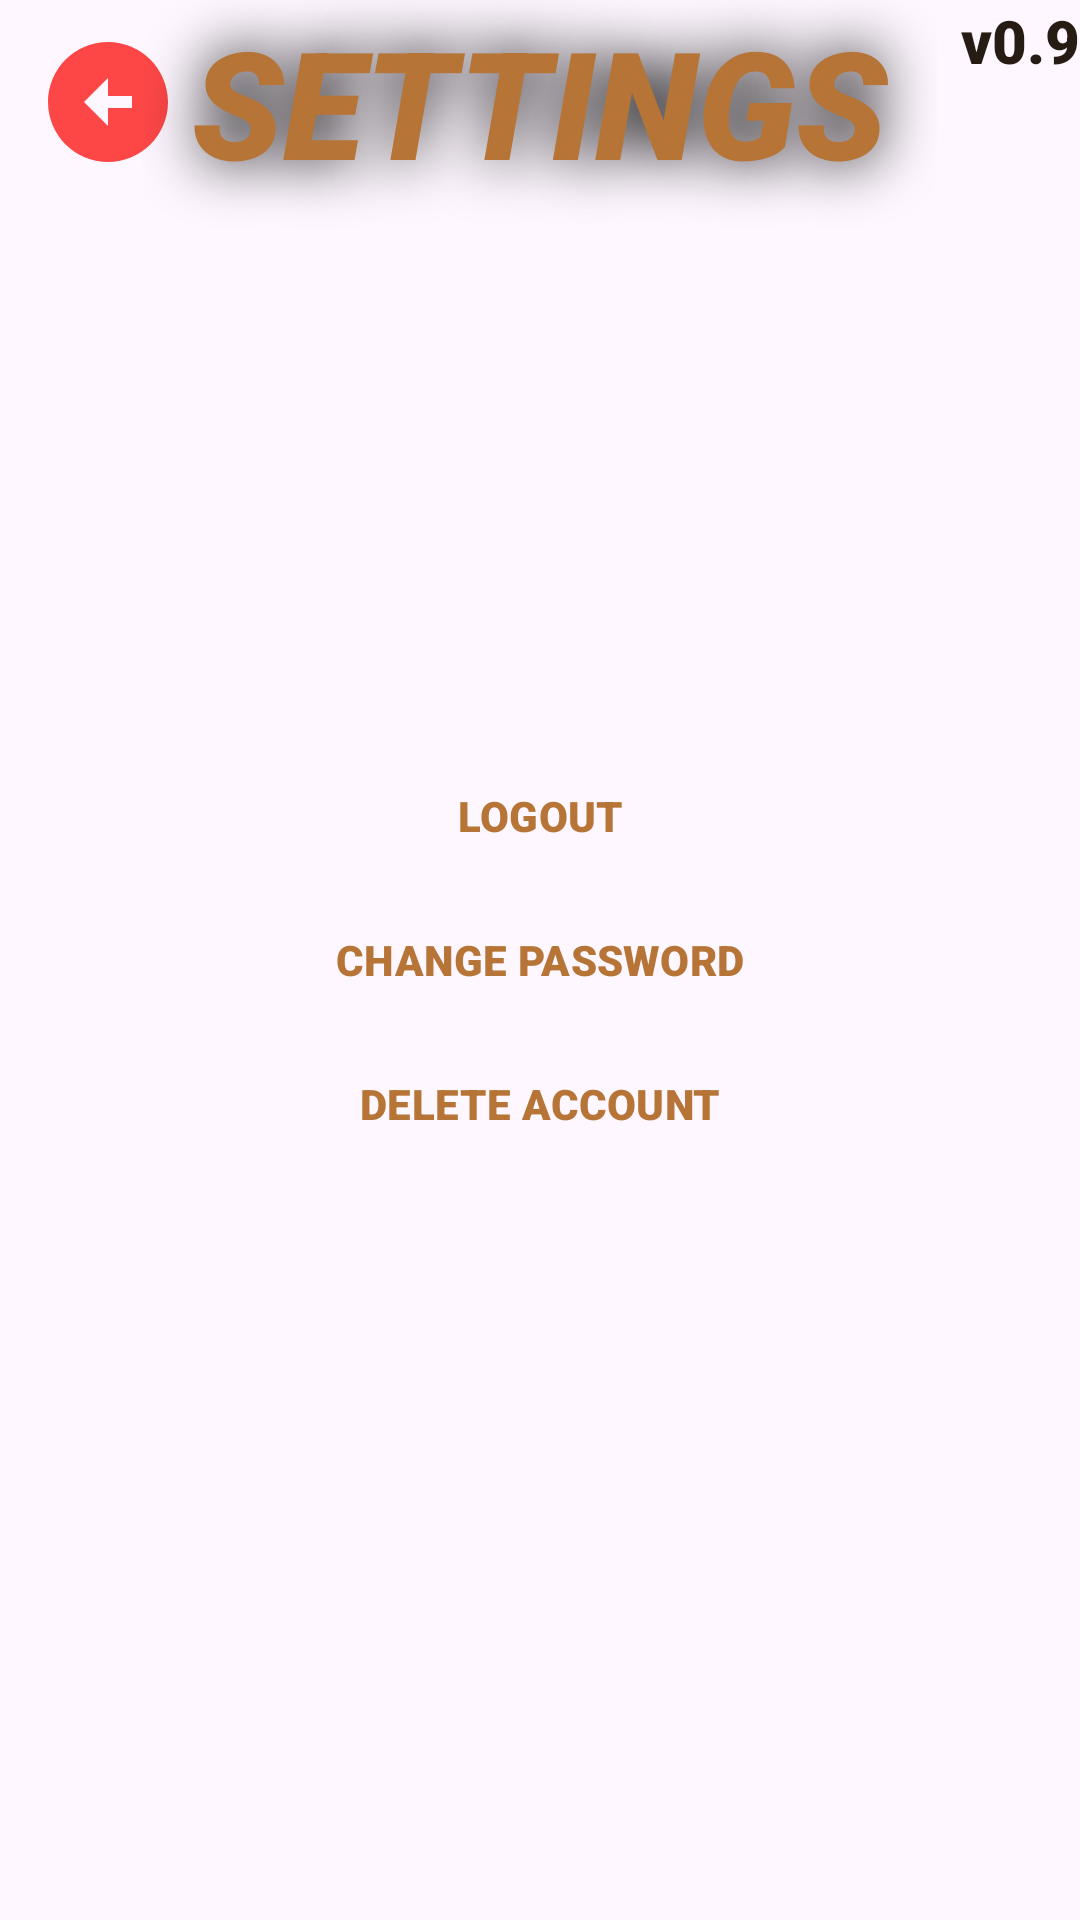

Named icons in this screenshot (1080px x 1920px) and their bounding boxes, (x1, y1, x2, y2):
back arrow: (48, 42, 168, 162)
